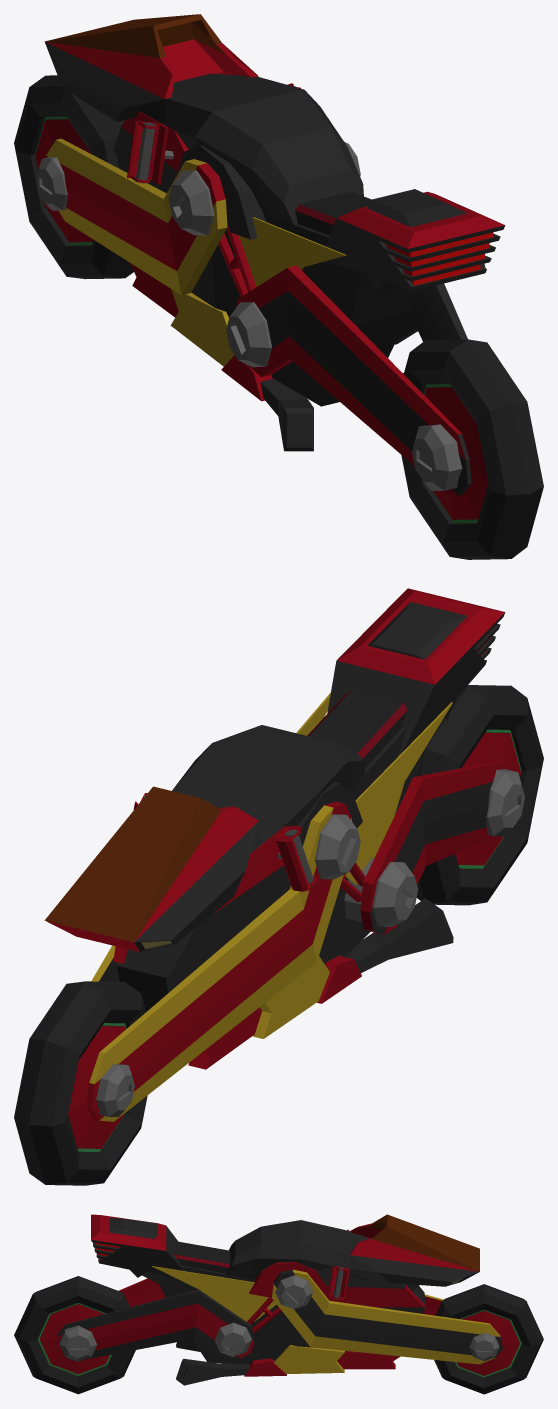
The model's file is BikeFUSION.fbx.
3 views of the same model, one above another, from view 1: azimuth 30°, elevation 25°; view 2: azimuth 150°, elevation 25°; view 3: azimuth 270°, elevation 25° (orthographic). The views are drawn at different scales.
Visible parts, largest first — view 1: Cube, Cylinder.004, Cube.010, Cube.004, Cube.003, Cube.006, Cylinder, Cube.024, Cube.022, Cube.017, Cylinder.002, Cube.005 (+10 smaller); view 2: Cube.003, Cube.004, Cube, Cylinder, Cube.006, Cylinder.004, Cube.010, Cube.024, Cube.002, Cube.022, Cube.019, Cylinder.003 (+7 smaller); view 3: Cube.001, Cube, Cylinder.004, Cube.005, Cylinder, Cube.003, Cube.006, Cube.023, Cube.021, Cube.014, Cube.002, Cube.009 (+9 smaller).
Boxes of the visible parts, x1,y1,x2,y2 form: Cube: [117, 73, 419, 406]; Cylinder.004: [401, 339, 543, 559]; Cube.010: [236, 265, 471, 495]; Cube.004: [45, 138, 227, 295]; Cube.003: [44, 14, 258, 121]; Cube.006: [323, 189, 505, 291]; Cylinder: [14, 75, 133, 279]; Cube.024: [113, 111, 266, 239]; Cube.022: [239, 217, 346, 286]; Cube.017: [170, 289, 234, 366]; Cylinder.002: [412, 424, 462, 490]; Cube.005: [394, 283, 467, 344]; Cube.003: [44, 786, 258, 951]; Cube.004: [86, 801, 351, 1121]; Cube: [116, 725, 434, 1011]; Cylinder: [14, 981, 147, 1185]; Cube.006: [327, 588, 505, 756]; Cylinder.004: [416, 685, 543, 905]; Cube.010: [360, 761, 507, 934]; Cube.024: [159, 782, 362, 975]; Cube.002: [307, 689, 407, 768]; Cube.022: [345, 702, 452, 884]; Cube.019: [345, 898, 453, 972]; Cylinder.003: [344, 857, 418, 926]; Cube.001: [272, 1269, 502, 1364]; Cube: [142, 1220, 424, 1364]; Cylinder.004: [14, 1276, 135, 1394]; Cube.005: [55, 1289, 254, 1360]; Cylinder: [434, 1284, 543, 1394]; Cube.003: [350, 1214, 479, 1286]; Cube.006: [91, 1214, 185, 1278]; Cube.023: [249, 1262, 424, 1307]; Cube.021: [152, 1266, 276, 1321]; Cube.014: [274, 1345, 344, 1373]; Cube.002: [174, 1241, 230, 1273]; Cube.009: [176, 1358, 249, 1385].
Size of the model in its own units: 141 by 240 by 667.
